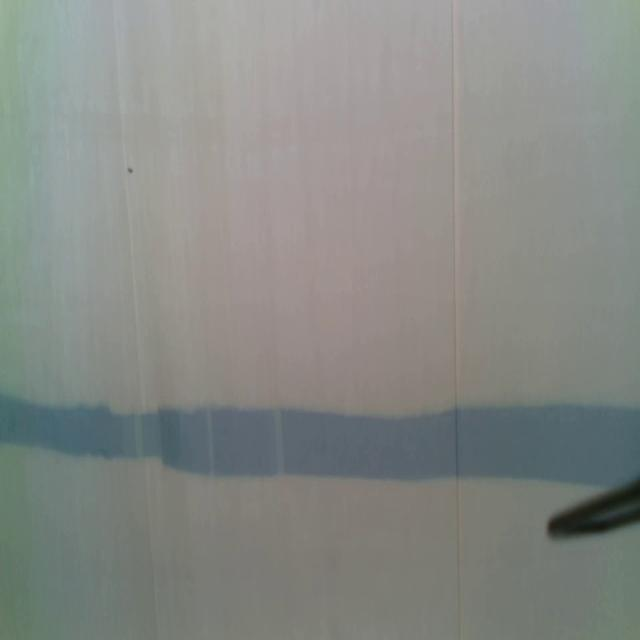color bleeding: (0, 386, 621, 488)
crease: (112, 1, 160, 640), (449, 0, 463, 639)
hole: (126, 166, 136, 176)
